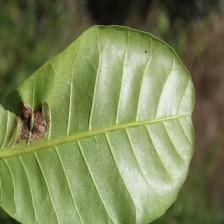leaf miner: (6, 78, 54, 155)
